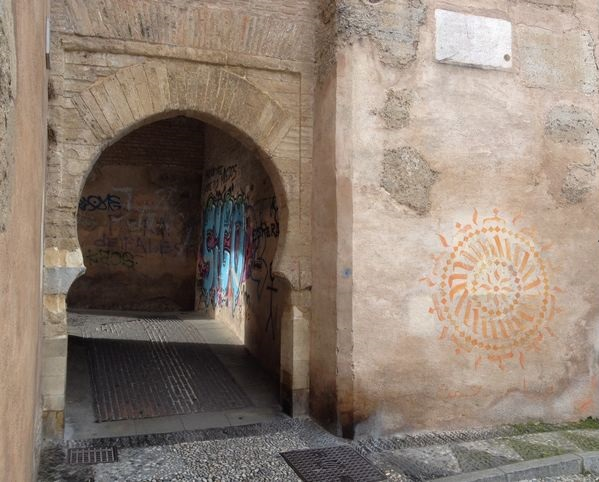arco-herradura: (54, 99, 303, 302)
